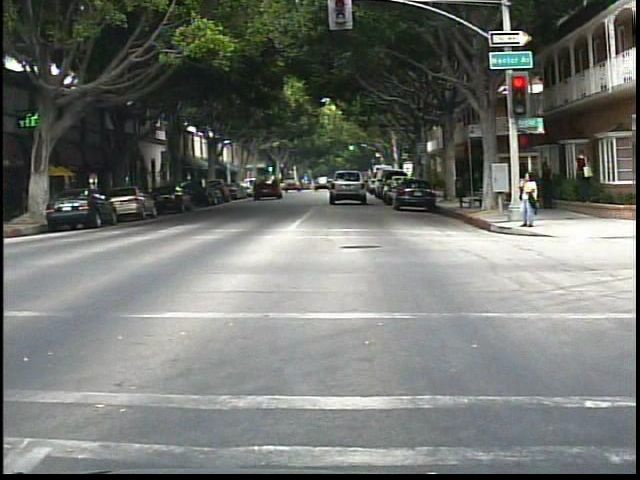person: (515, 168, 542, 229), (571, 148, 598, 206), (540, 159, 562, 217)
